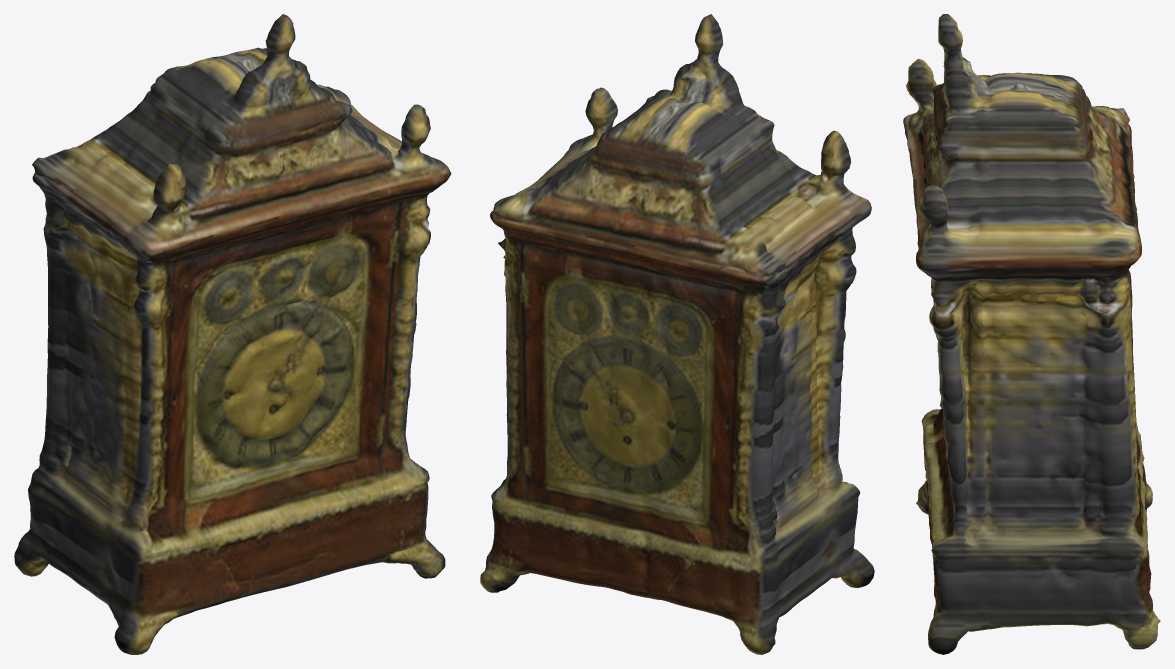
File: kfl-2139.glb
3 views of the same model, side by side, from view 1: azimuth 30°, elevation 25°; view 2: azimuth 150°, elevation 25°; view 3: azimuth 270°, elevation 25° (orthographic). The views are drawn at different scales.
Visible parts, largest first — view 1: kfl-2139.glb; view 2: kfl-2139.glb; view 3: kfl-2139.glb.
Part boxes in pixels (left/top/right/bottom): kfl-2139.glb: left=14, top=14, right=451, bottom=654; kfl-2139.glb: left=480, top=14, right=874, bottom=654; kfl-2139.glb: left=903, top=14, right=1160, bottom=654.
Bounding box in the file's own units: 0.5794 × 1 × 0.4072.
Materials: 1 (1 with a texture image).
